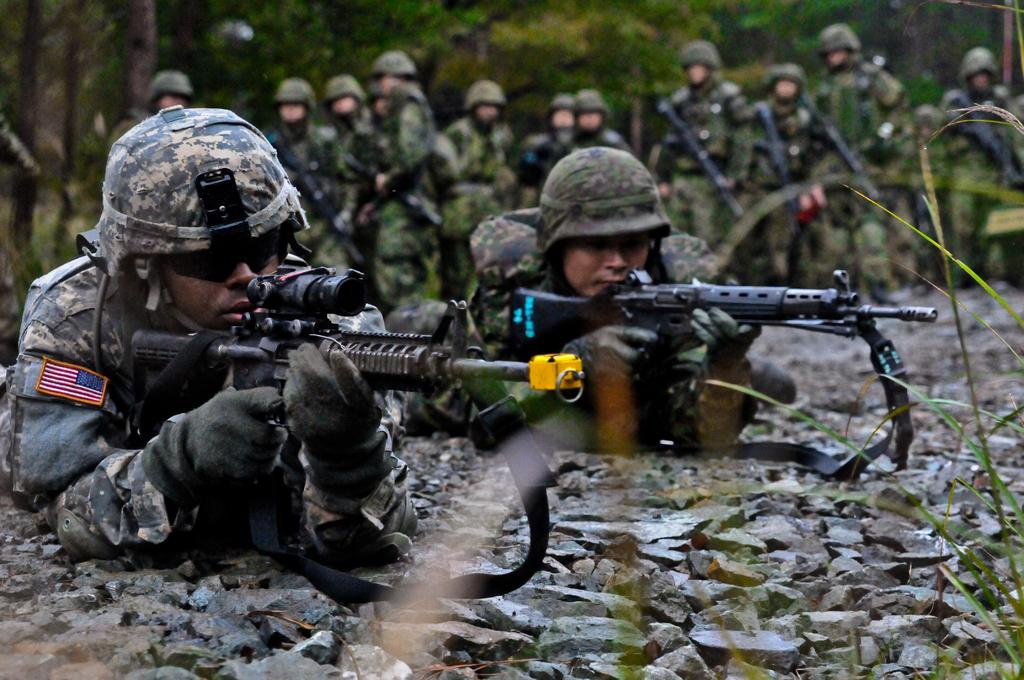Rifle: (127, 254, 586, 604), (500, 263, 943, 482), (657, 101, 753, 222), (272, 129, 352, 236), (810, 93, 877, 197), (342, 158, 441, 227), (743, 101, 802, 216), (953, 93, 1018, 184)
